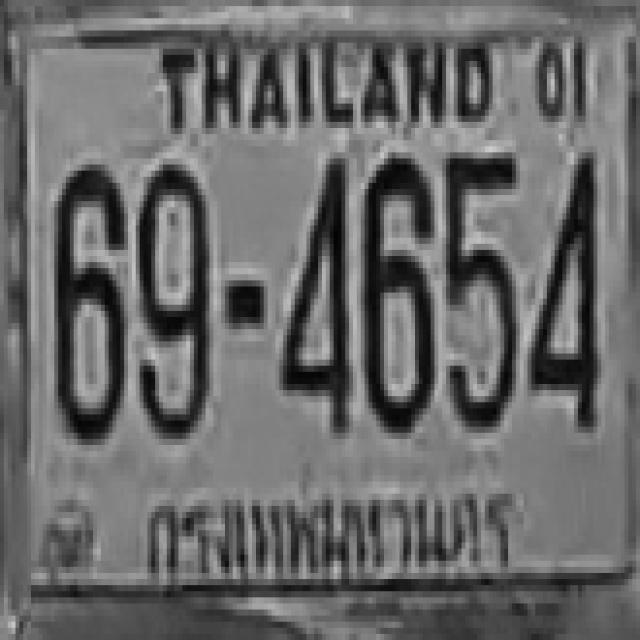4: (528, 146, 598, 427), (279, 152, 349, 427)
5: (442, 146, 516, 427)
6: (51, 158, 120, 439), (360, 152, 430, 427)
9: (136, 158, 206, 433)
Bangkok: (139, 481, 519, 590)
